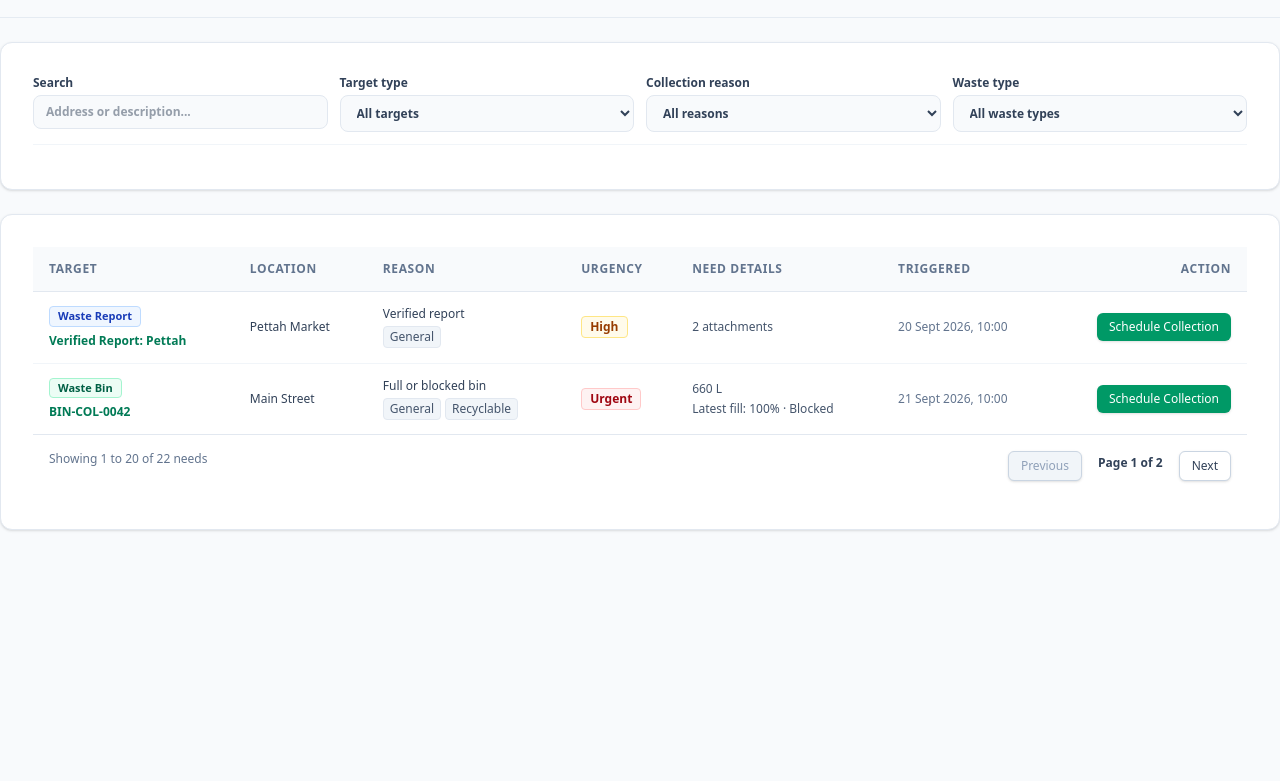
Test: CollectionNeedsPage › shows a backend validation message without discarding the selected target
The image size is (1280, 781).
Click the button with test id "schedule-need-bin-1" at (1164, 399), box [1097, 385, 1231, 413]
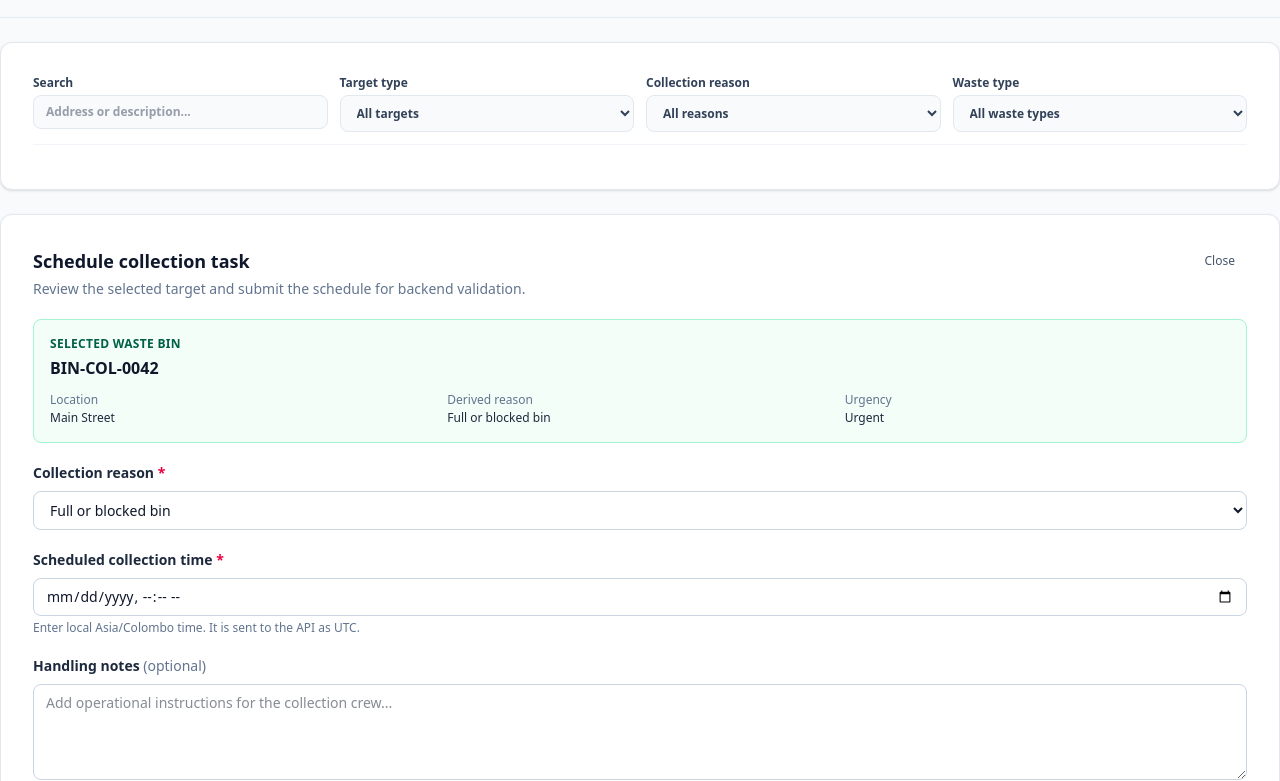
Type "2099-01-01T10:00" into the field labelled "Scheduled collection time *" at (640, 597), box [33, 578, 1247, 616]
(page scrolled)
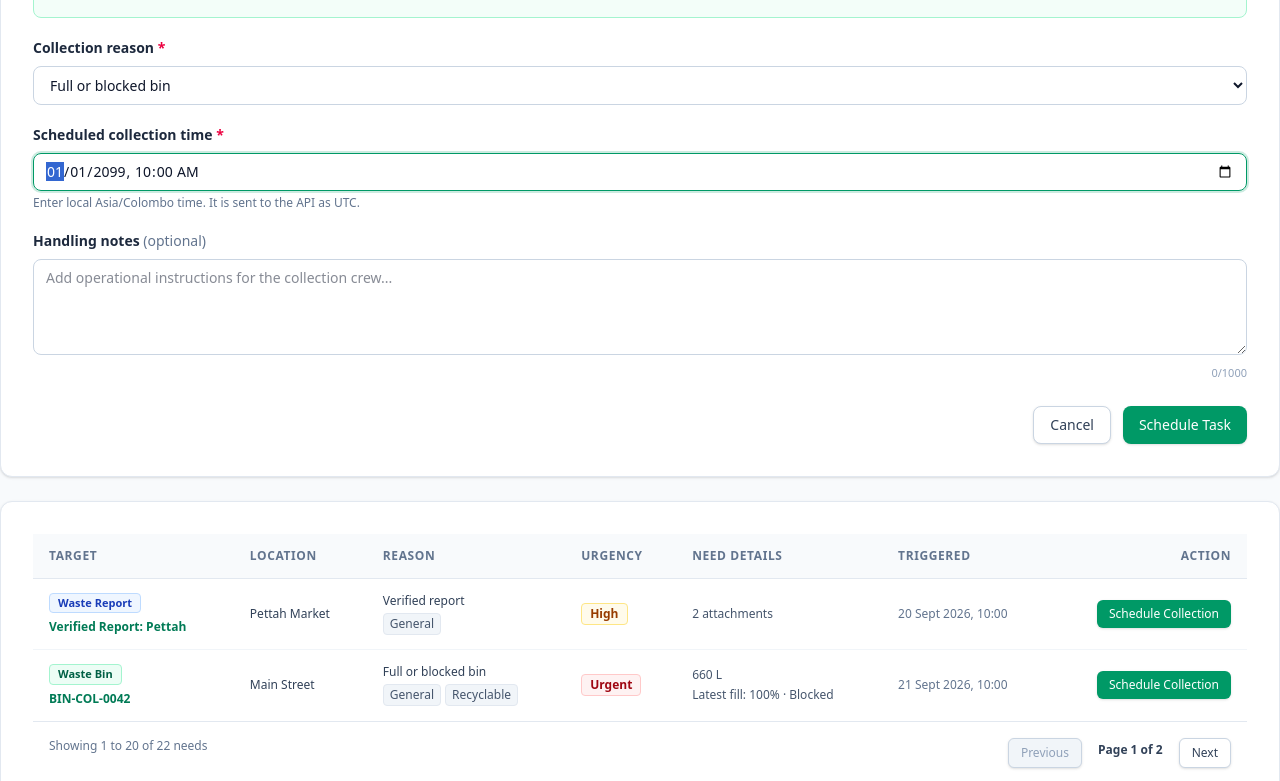
Click the button "Schedule Task" at (1185, 424), box [1123, 406, 1247, 444]
(page scrolled)
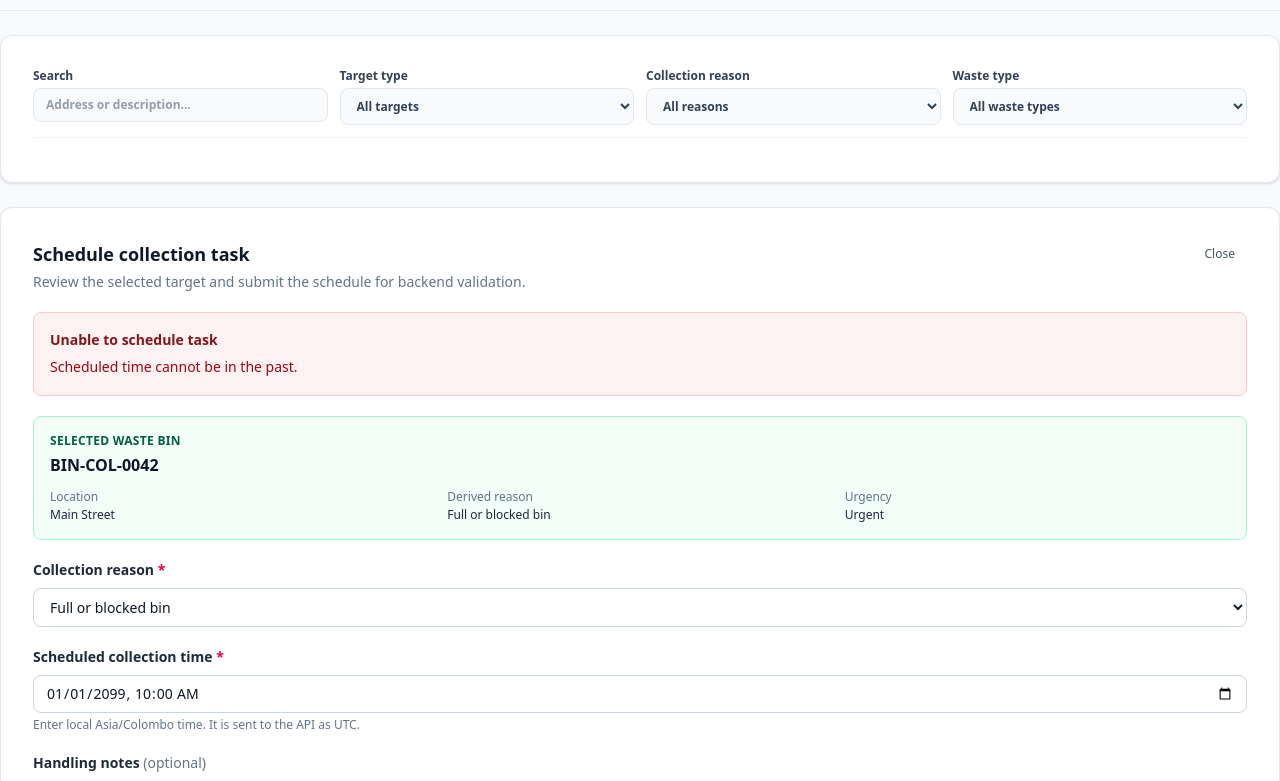
Check: the text "BIN-COL-0042" is shown 2 times
Check: the text "Scheduled time cannot be in the past." is shown, box [50, 357, 298, 376]
